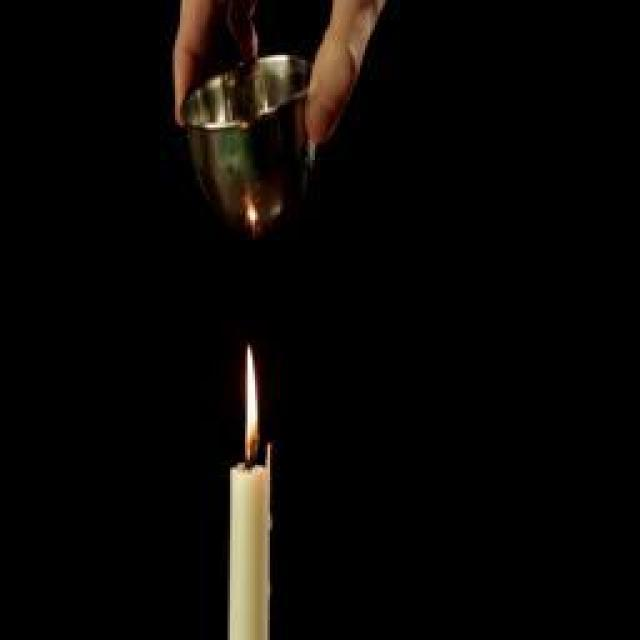Fire: (244, 346, 258, 459)
